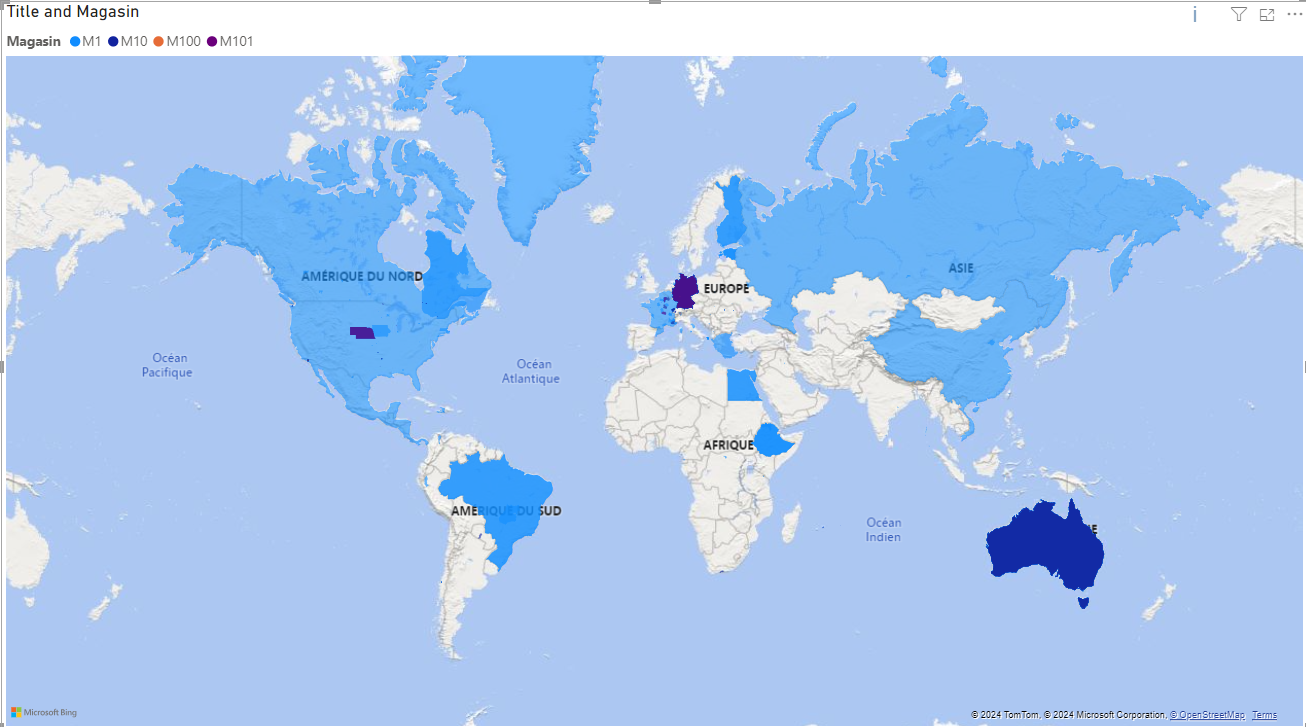

The page's visual inventory and layout, read from the dashboard file:
{"tool":"powerbi","page":{"name":"store locations and performance","canvas":[1280,720],"ordinal":1},"visuals":[{"type":"map","fields":{"Category":["Dimension_magasin.Magasin"],"Y":["Min(Dimension_Catalogue.Title)"]},"box":[0,0,1280.9,719.1],"z":0}]}

Visuals, with their boxes on the page's 1280x720 design canvas (x1, y1, x2, y2). These are canvas units, not pixel positions in the 1306x727 screenshot, which may show the page scaled, cropped or inside an application window:
map - Dimension_magasin.Magasin x Min(Dimension_Catalogue.Title): Rect(0, 0, 1281, 719)
